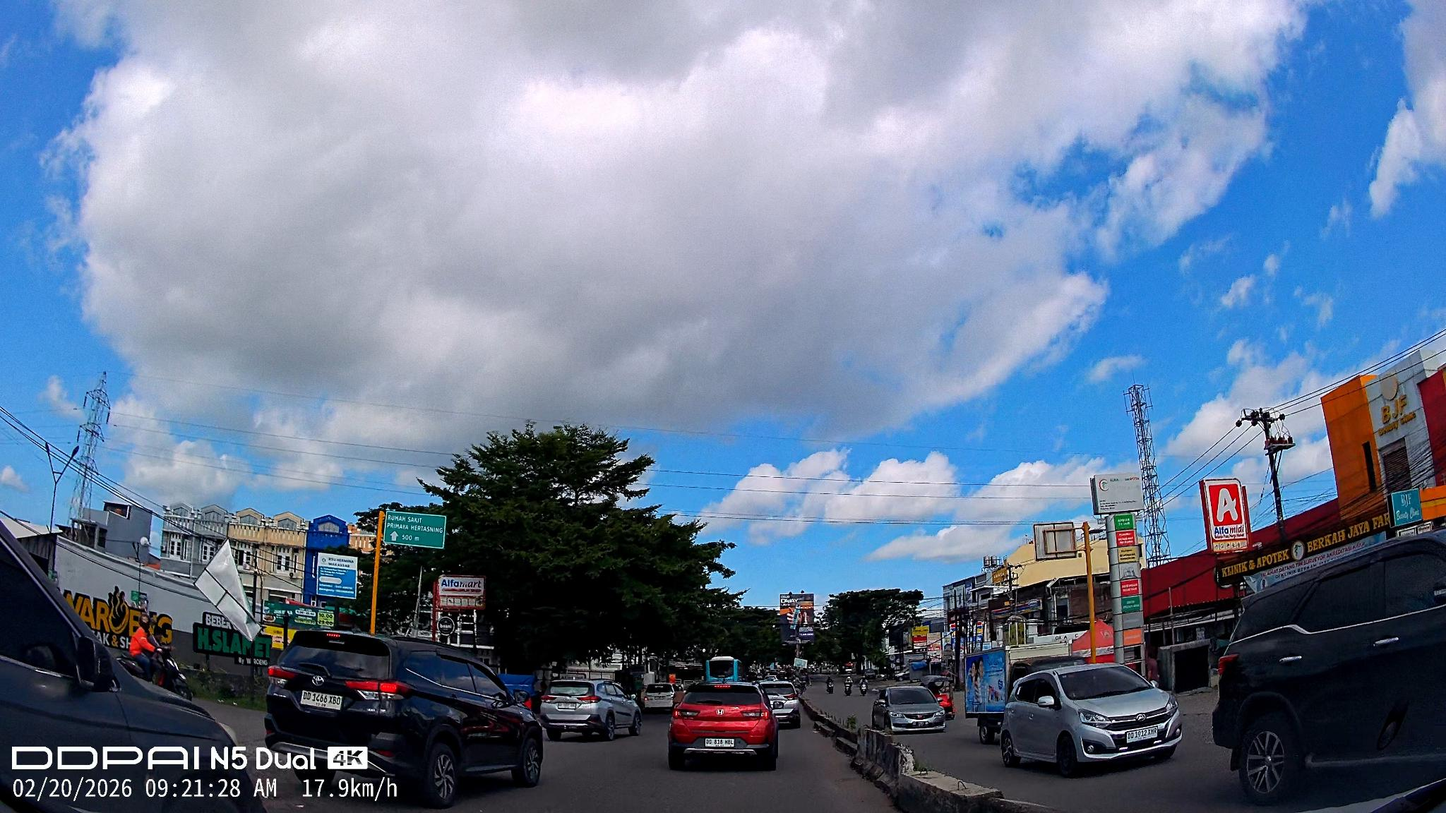rambu_teks: (383, 510, 447, 549)
